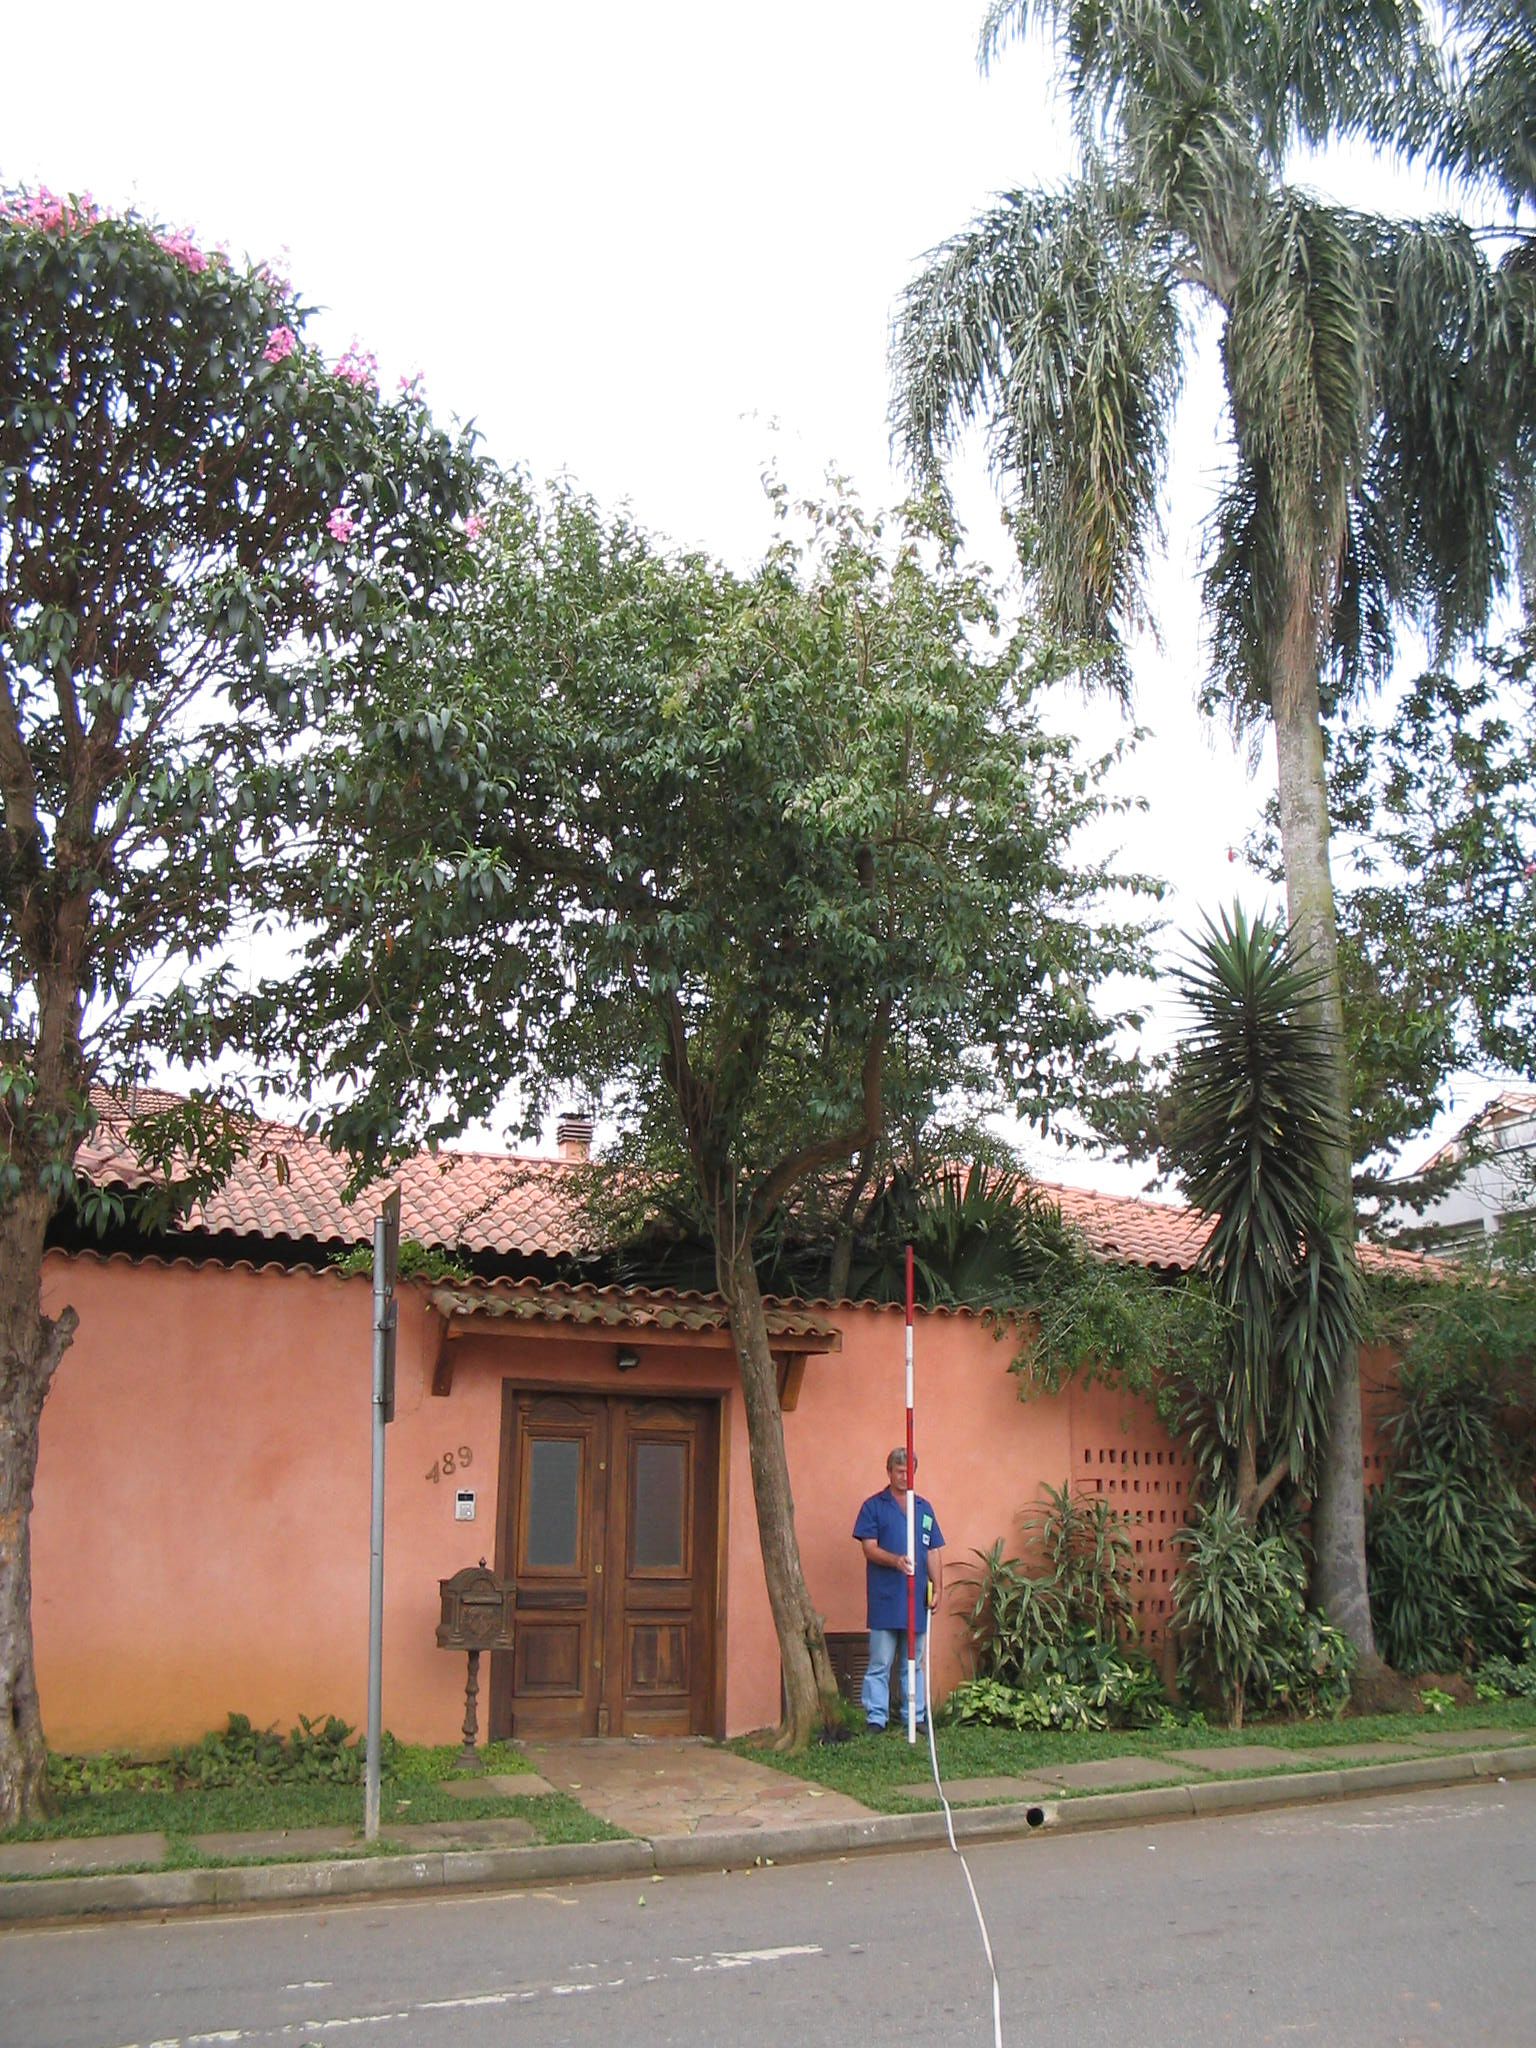crown: (323, 518, 1165, 1208), (11, 187, 466, 1258), (907, 5, 1525, 718)
stem: (1228, 666, 1433, 1708), (658, 1221, 879, 1750), (2, 1216, 106, 1816)
stick: (874, 1242, 954, 1743)
tree: (307, 511, 1171, 1755), (899, 5, 1528, 1713), (3, 184, 473, 1824)
